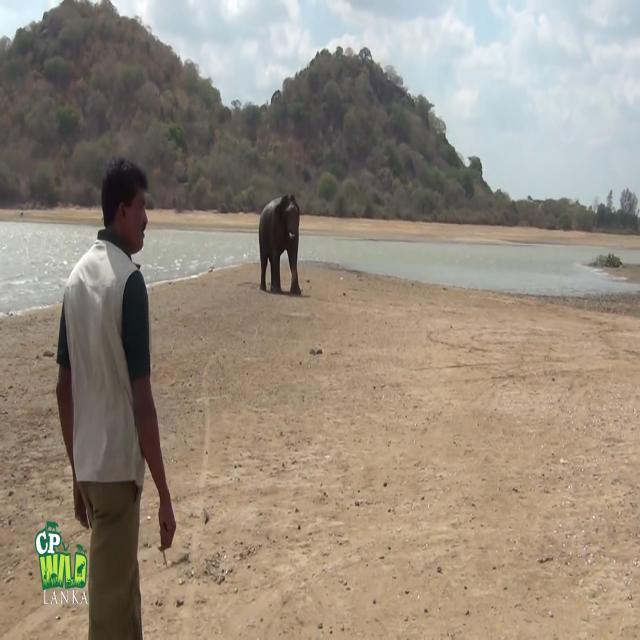Elephant: (258, 193, 302, 295)
person: (56, 156, 176, 639)
